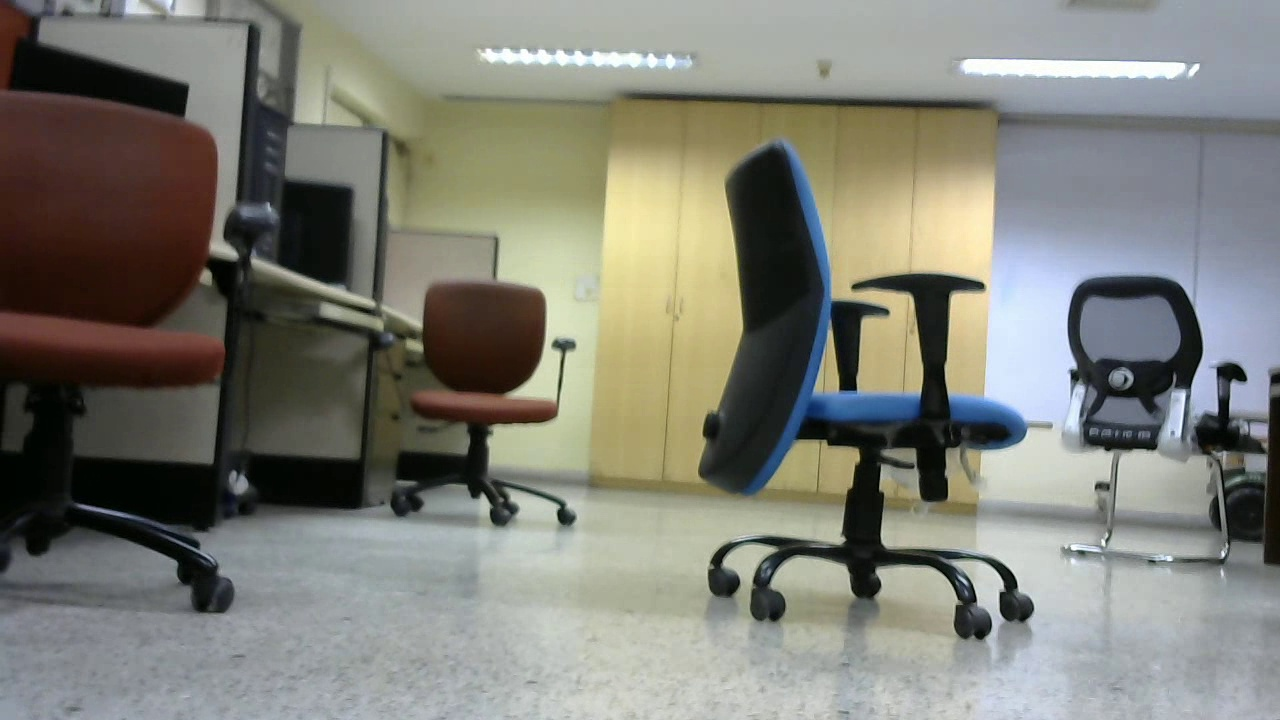chair: (700, 141, 1038, 639), (1, 78, 246, 614), (1058, 269, 1224, 562), (393, 276, 582, 530)
